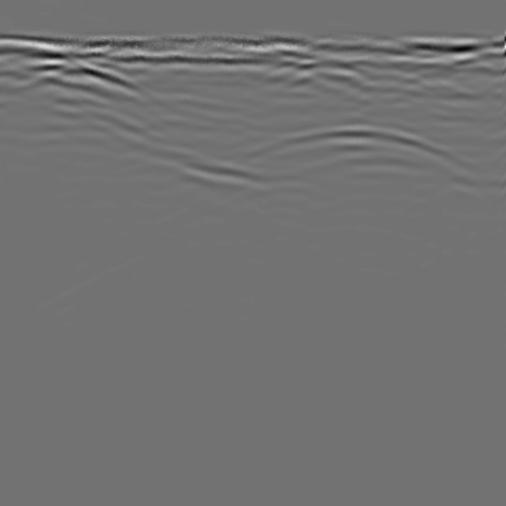hyperbola: (227, 110, 492, 243)
